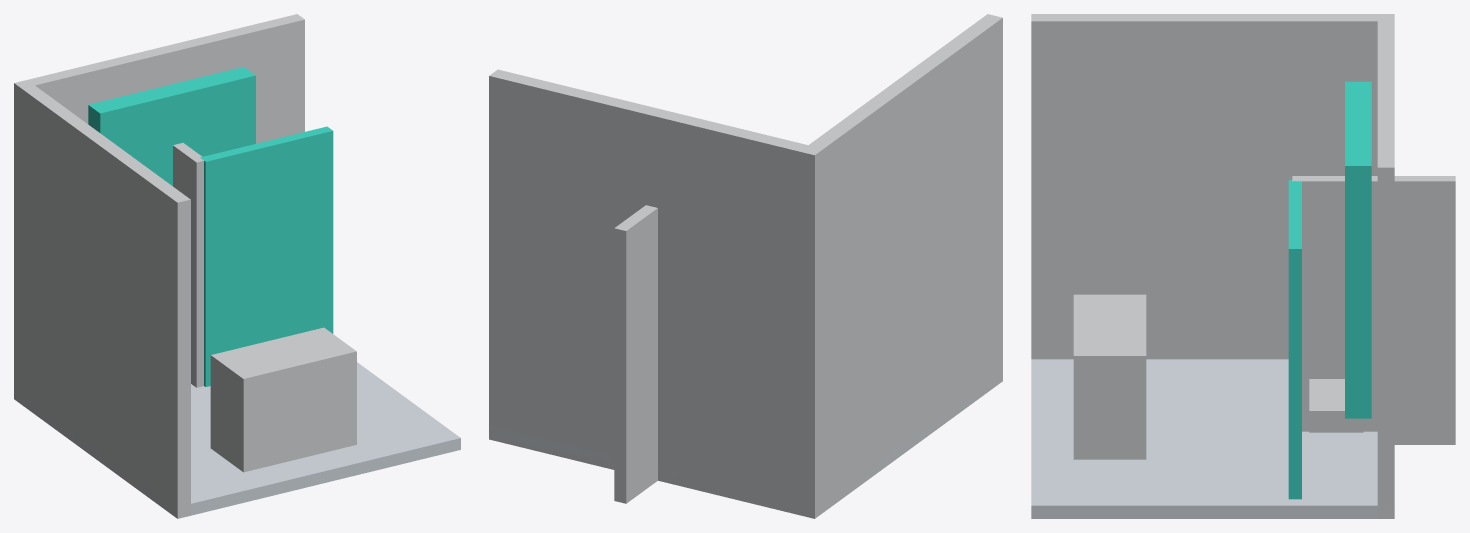
3 views of the same model, side by side, from view 1: azimuth 30°, elevation 25°; view 2: azimuth 150°, elevation 25°; view 3: azimuth 270°, elevation 25° (orthographic). The views are drawn at different scales.
Visible parts, largest first — view 1: Exhibition Booth Concept; view 2: Exhibition Booth Concept; view 3: Exhibition Booth Concept.
Part boxes in pixels (<box>): Exhibition Booth Concept: <box>14,14,460,518</box>; Exhibition Booth Concept: <box>489,14,1002,518</box>; Exhibition Booth Concept: <box>1031,14,1455,518</box>.
Size of the model in its own units: 3 by 3.2 by 3.51.
